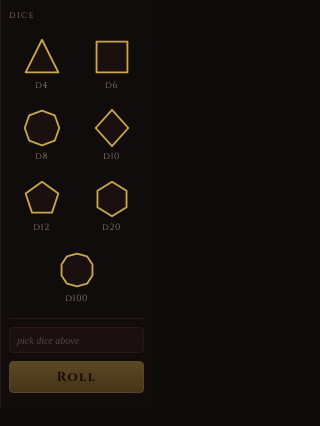
Scenario: DiceTray — AC-001 queue accumulation › accumulates dice without replacing the queue (AC-001)
The width and height of the screenshot is (320, 426).
Click the button titled "d6".
click(112, 64)  # box top-left (79, 31), bottom-right (144, 97)
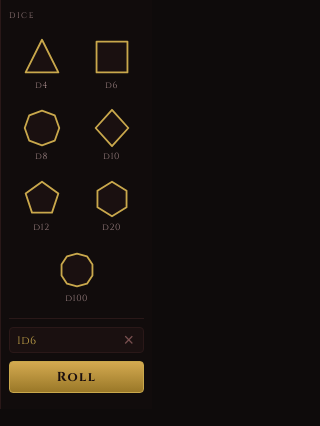
Click the button titled "d6".
click(112, 64)  # box top-left (79, 31), bottom-right (144, 97)
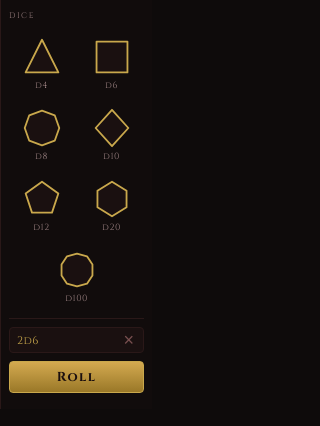
Now the text "2d6" is shown, box top-left (17, 332), bottom-right (39, 348)
